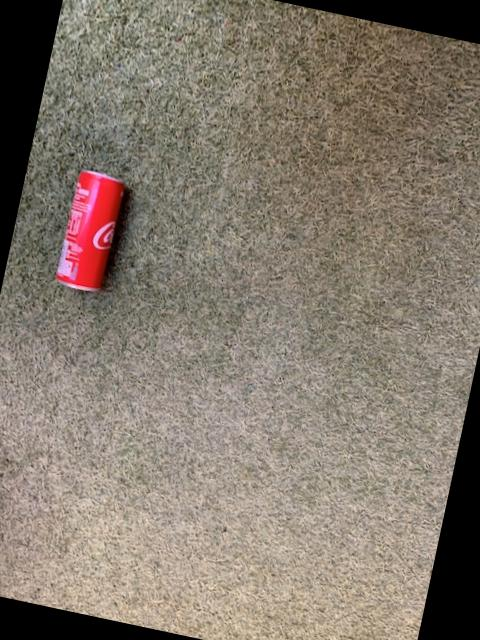metal: (57, 172, 125, 292)
